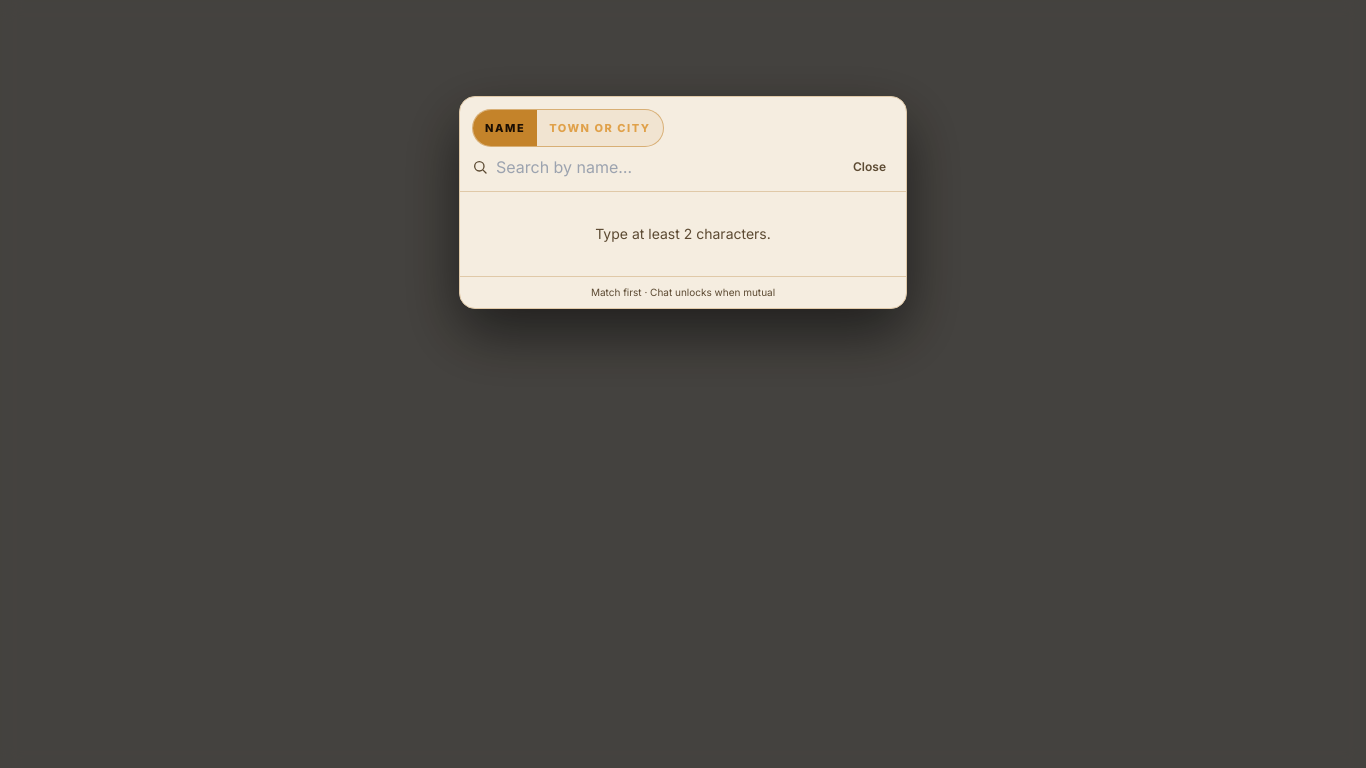
Test: ProfileSearchModal name vs place › place lookup failure shows human copy, never a raw error code
Click the button with test id "profile-search-mode-place" at coordinates (600, 128), box left=537, top=110, right=663, bottom=146
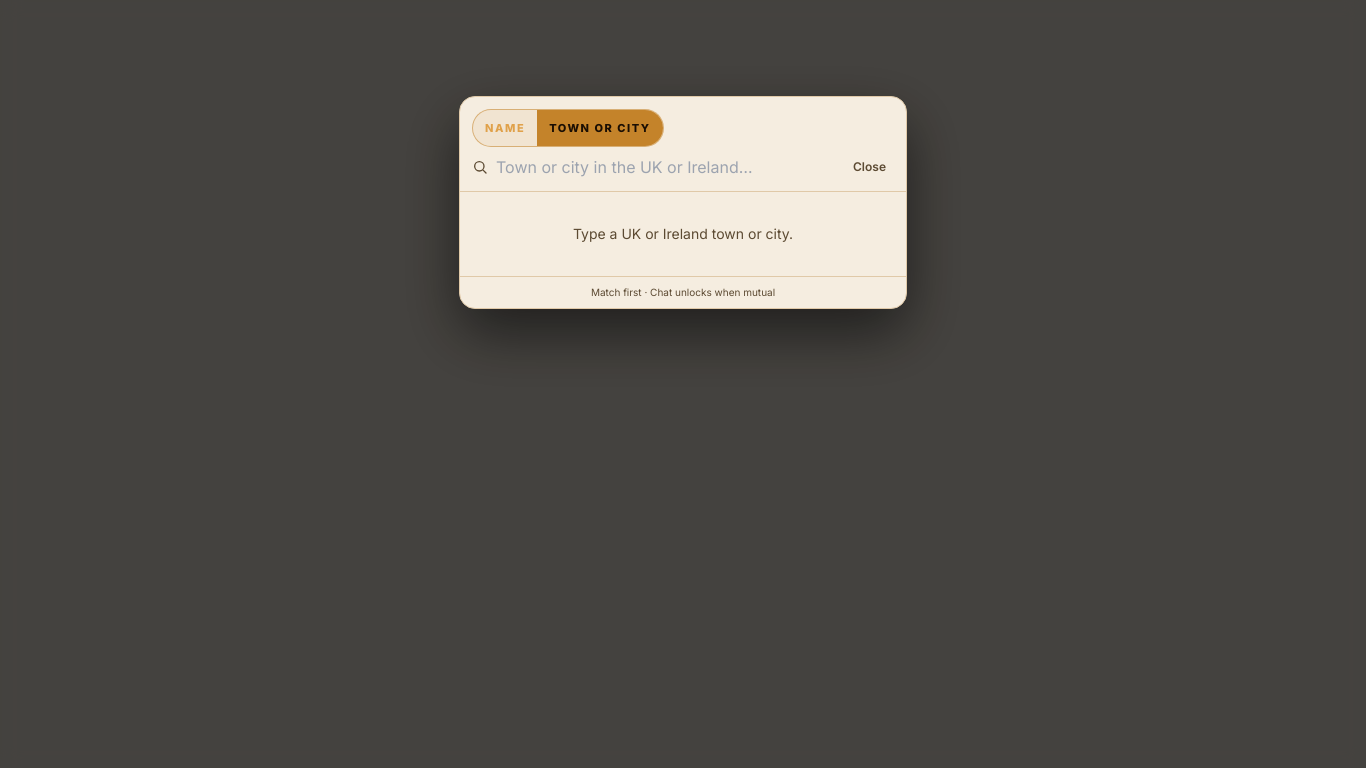
Type "Brighton" into the search field named "Search by town or city" at coordinates (666, 167), box left=496, top=155, right=837, bottom=179
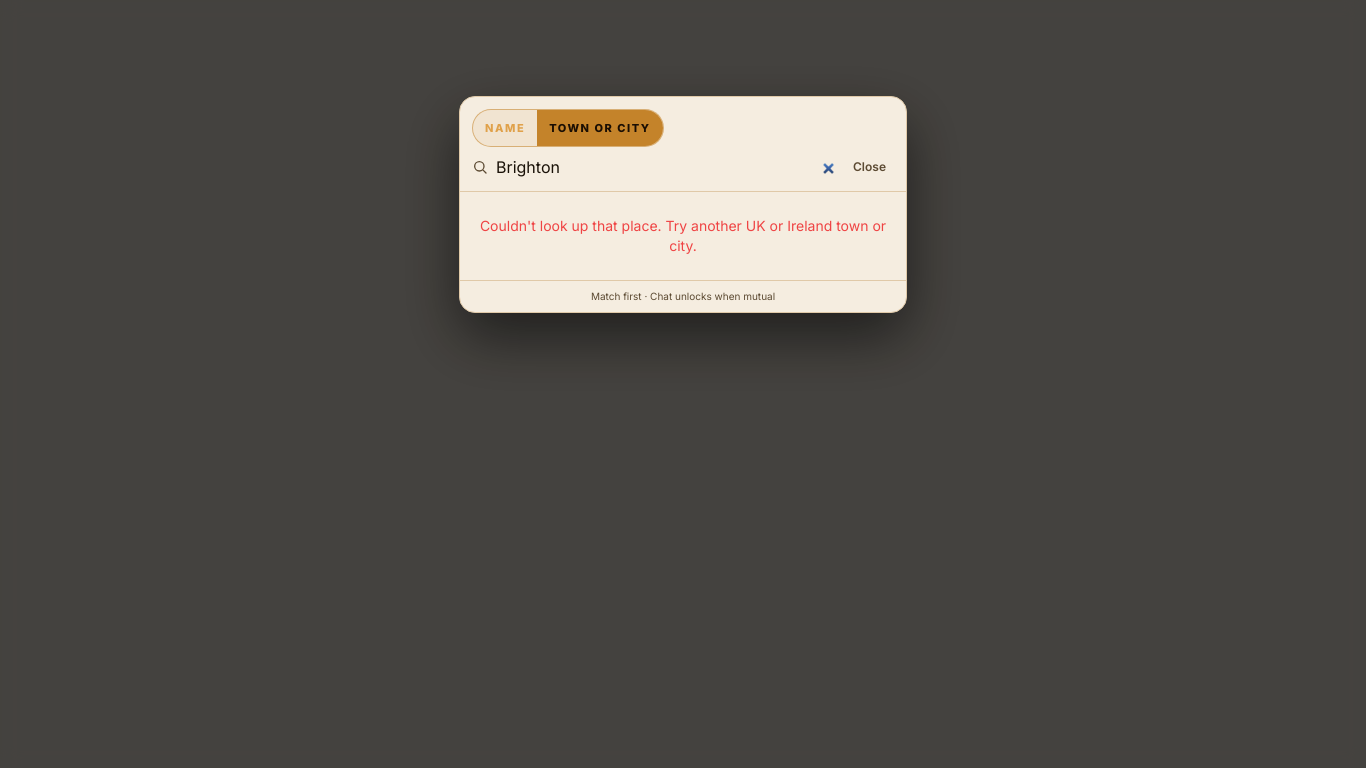
Check: the text "Couldn't look up that place. Try another UK or Ireland town or city." is shown, box left=480, top=217, right=886, bottom=254
